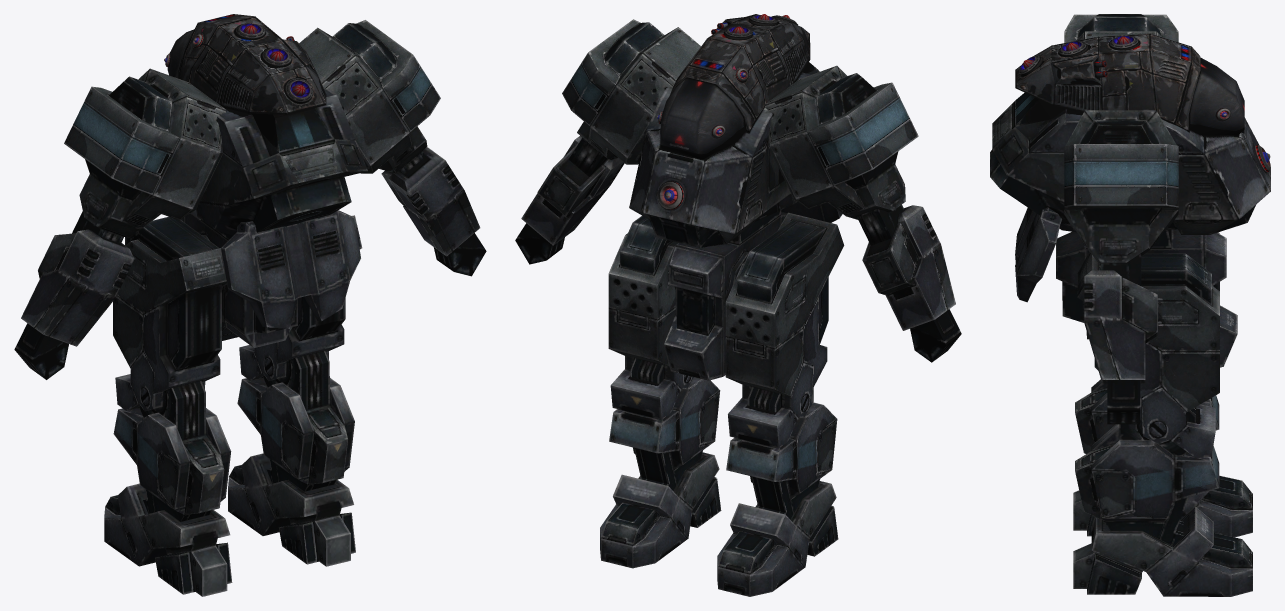
The model's file is Kiev.glb.
3 renders of one model, left to right at view 1: azimuth 30°, elevation 25°; view 2: azimuth 150°, elevation 25°; view 3: azimuth 270°, elevation 25°, orthographic. The views are drawn at different scales.
Parts seen in each view (by area): view 1: Spine1, L UpperArm, L Thigh, R UpperArm, Box01, R Calf, L Calf, L Forearm, L Foot, R Foot, R Forearm, R Thigh (+1 smaller); view 2: L Thigh, L UpperArm, Box01, Spine1, R UpperArm, R Thigh, Pelvis, L Forearm, L Foot, R Foot, L Calf, R Calf (+1 smaller); view 3: Spine1, Box01, R UpperArm, R Thigh, R Calf, R Foot, R Forearm, Pelvis, L Foot, L UpperArm, L Calf.
Boxes of the visible parts, box(x1,y1,x2,y2) form: Spine1: box(196, 89, 367, 328); L UpperArm: box(64, 68, 226, 243); L Thigh: box(113, 216, 226, 411); R UpperArm: box(299, 20, 440, 174); Box01: box(164, 14, 326, 114); R Calf: box(237, 350, 354, 491); L Calf: box(113, 381, 231, 521); L Forearm: box(14, 229, 134, 379); L Foot: box(104, 483, 232, 596); R Foot: box(228, 453, 355, 566); R Forearm: box(381, 147, 486, 276); R Thigh: box(239, 215, 362, 381); L Thigh: box(725, 212, 844, 448); L UpperArm: box(765, 65, 918, 245); Box01: box(656, 14, 810, 209); Spine1: box(629, 62, 842, 247); R UpperArm: box(562, 19, 700, 176); R Thigh: box(608, 215, 693, 419); Pelvis: box(664, 210, 787, 380); L Forearm: box(862, 205, 961, 362); L Foot: box(717, 481, 838, 596); R Foot: box(600, 452, 721, 568); L Calf: box(726, 387, 837, 519); R Calf: box(609, 358, 720, 490); Spine1: box(990, 92, 1270, 302); Box01: box(1015, 33, 1270, 172); R UpperArm: box(1064, 110, 1178, 285); R Thigh: box(1077, 251, 1219, 456); R Calf: box(1075, 407, 1219, 545); R Foot: box(1073, 506, 1252, 596); R Forearm: box(1084, 270, 1157, 424); Pelvis: box(1056, 229, 1237, 367); L Foot: box(1073, 475, 1252, 537); L UpperArm: box(1064, 14, 1178, 42); L Calf: box(1075, 379, 1219, 453).
Bounding box in the file's own units: 3.11 × 3.49 × 1.72.
Materials: 2 (2 with a texture image).
